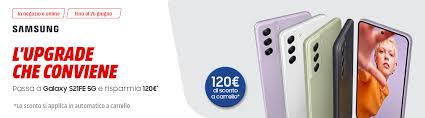Smartphone: (273, 11, 327, 118), (256, 10, 306, 118), (294, 14, 339, 118), (360, 20, 406, 118), (329, 15, 352, 118)
